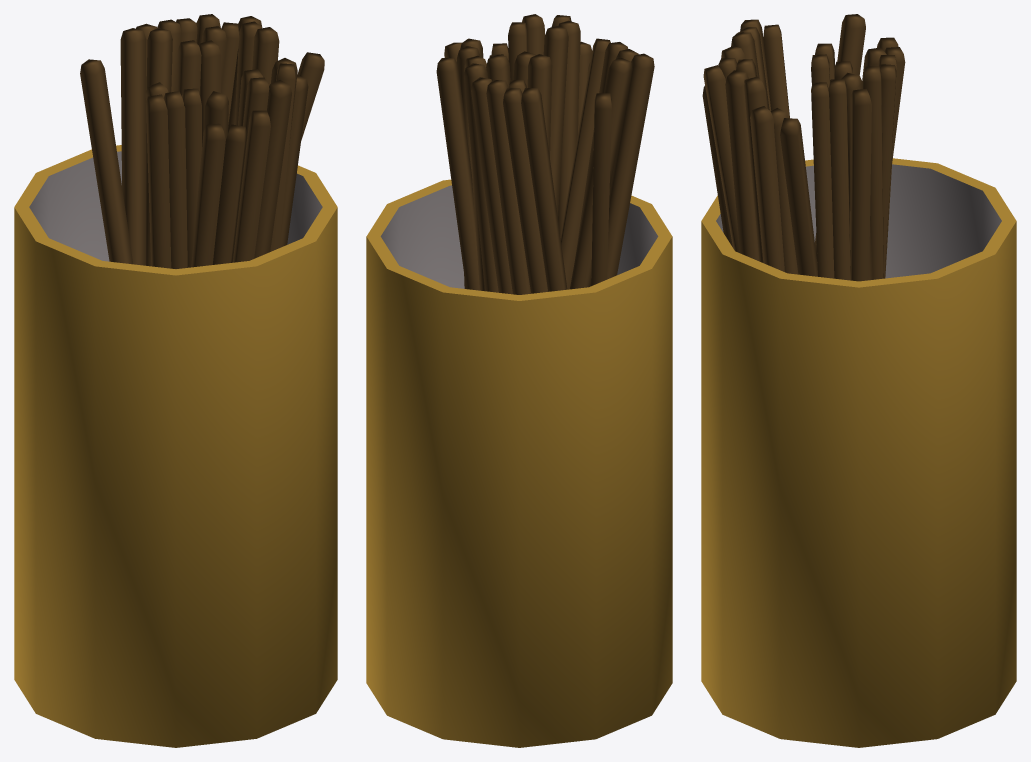
File: ChopstickHolder.glb
The picture shows the model from 3 angles, left to right: view 1: azimuth 30°, elevation 25°; view 2: azimuth 150°, elevation 25°; view 3: azimuth 270°, elevation 25°; orthographic projection. The views are drawn at different scales.
Visible parts, largest first — view 1: Cylinder, Cube.017, Cube.002, Cube.016, Cube.013, Cube.018, Cube.025, Cube.020, Cube.021, Cube.010, Cube.003, Cube.023 (+11 smaller); view 2: Cylinder, Cube.014, Cube.016, Cube.017, Cube.029, Cube.019, Cube, Cube.028, Cube.002, Cube.012, Cube.011, Cube.015 (+9 smaller); view 3: Cylinder, Cube.014, Cube.023, Cube.022, Cube.006, Cube.005, Cube.027, Cube.007, Cube.020, Cube.028, Cube.008, Cube.012 (+7 smaller).
Part boxes in pixels (box(x1,y1,x2,y2)): Cylinder: box(14, 145, 337, 747); Cube.017: box(120, 28, 146, 265); Cube.002: box(80, 59, 133, 264); Cube.016: box(145, 94, 171, 268); Cube.013: box(233, 110, 270, 262); Cube.018: box(191, 123, 225, 267); Cube.025: box(163, 91, 187, 268); Cube.020: box(254, 80, 291, 258); Cube.021: box(212, 124, 246, 264); Cube.010: box(182, 88, 201, 267); Cube.003: box(146, 28, 172, 266); Cube.023: box(279, 75, 308, 247); Cylinder: box(366, 179, 672, 747); Cube.014: box(436, 58, 479, 290); Cube.016: box(607, 53, 654, 279); Cube.017: box(521, 88, 567, 291); Cube.029: box(486, 79, 530, 294); Cube.019: box(503, 88, 548, 293); Cube: box(560, 38, 610, 289); Cube.028: box(471, 77, 512, 294); Cube.002: box(591, 93, 611, 285); Cube.012: box(570, 57, 632, 289); Cube.011: box(558, 20, 580, 236); Cube.015: box(543, 25, 568, 217); Cylinder: box(701, 158, 1016, 747); Cube.014: box(850, 89, 871, 281); Cube.023: box(750, 106, 784, 271); Cube.022: box(725, 70, 759, 260); Cube.006: box(829, 79, 850, 280); Cube.005: box(811, 82, 834, 278); Cube.027: box(780, 118, 817, 276); Cube.007: box(863, 66, 883, 279); Cube.020: box(703, 65, 739, 252); Cube.028: box(880, 64, 896, 278); Cube.008: box(770, 108, 798, 274); Cube.012: box(763, 24, 789, 118).
Bounding box in the file's own units: 0.2172 × 0.4814 × 0.2172.
